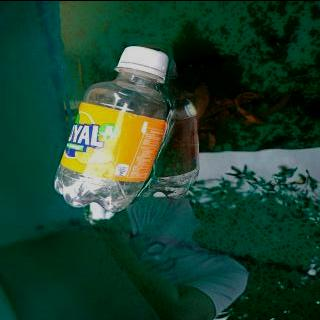bottle: (46, 42, 184, 215)
